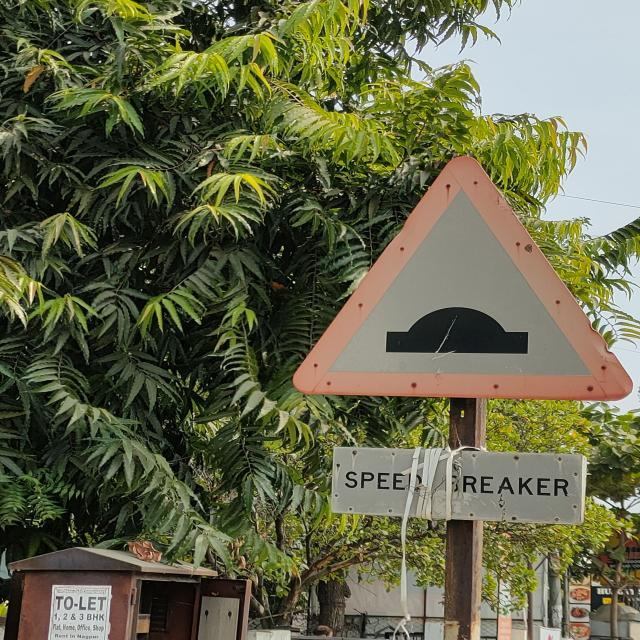hump or rough road: (288, 157, 630, 408)
